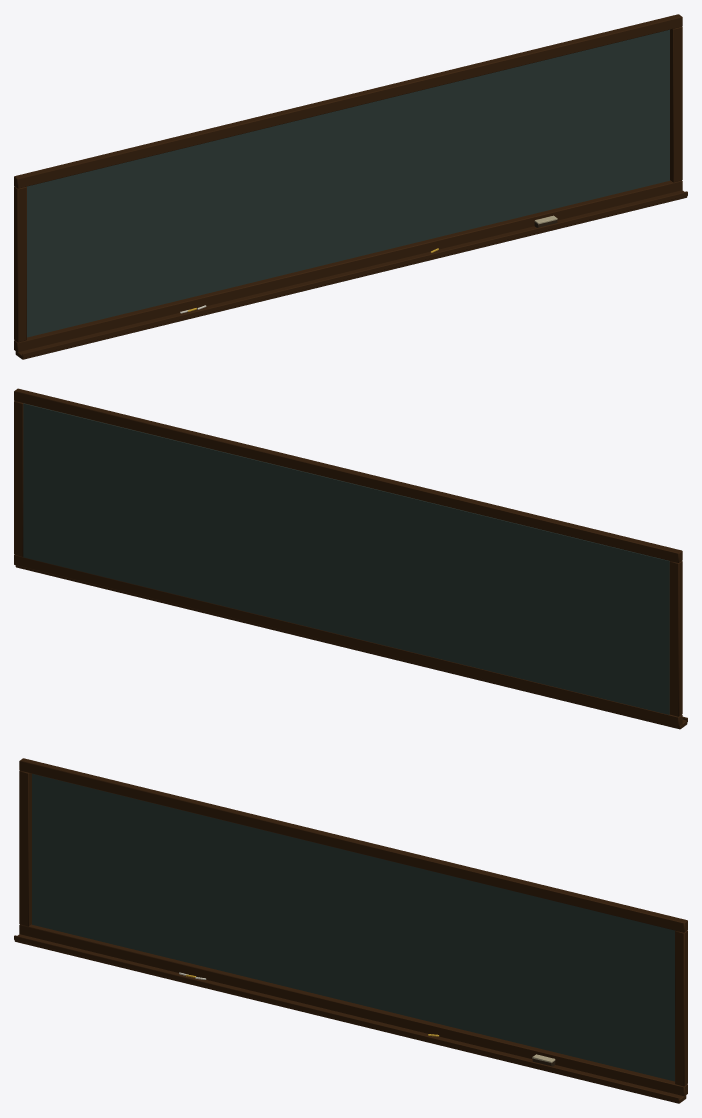
File: school-blackboard.glb
3 renders of one model, top to bottom at view 1: azimuth 30°, elevation 25°; view 2: azimuth 150°, elevation 25°; view 3: azimuth 330°, elevation 25°, orthographic.
Parts seen in each view (by area): view 1: board__board, frame__wood, tray__wood; view 2: board__board, frame__wood, tray__wood; view 3: board__board, frame__wood, tray__wood.
Part boxes in pixels (x1=…): board__board: x1=27, y1=29, x2=669, y2=337; frame__wood: x1=14, y1=14, x2=682, y2=352; tray__wood: x1=15, y1=190, x2=687, y2=359; board__board: x1=23, y1=403, x2=669, y2=714; frame__wood: x1=14, y1=388, x2=682, y2=726; tray__wood: x1=15, y1=565, x2=687, y2=729; board__board: x1=32, y1=773, x2=674, y2=1081; frame__wood: x1=19, y1=758, x2=687, y2=1096; tray__wood: x1=14, y1=934, x2=686, y2=1103.
Bounding box in the file's own units: 4.8 × 1.23 × 0.117.
